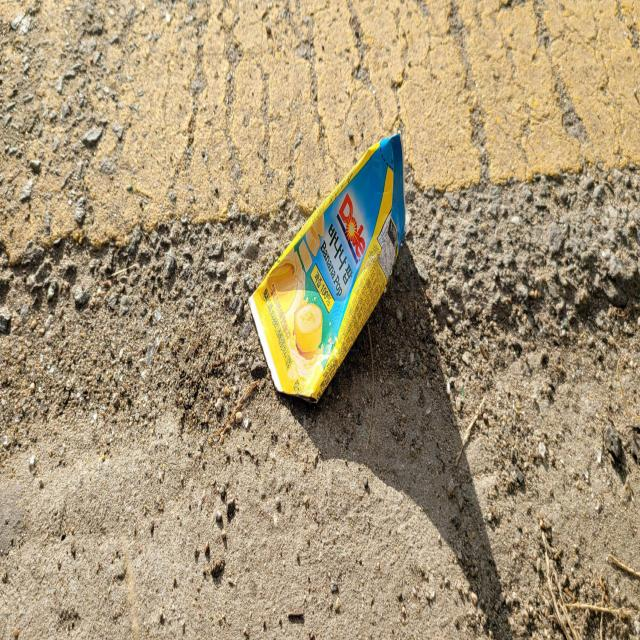paperpack: (249, 131, 406, 399)
